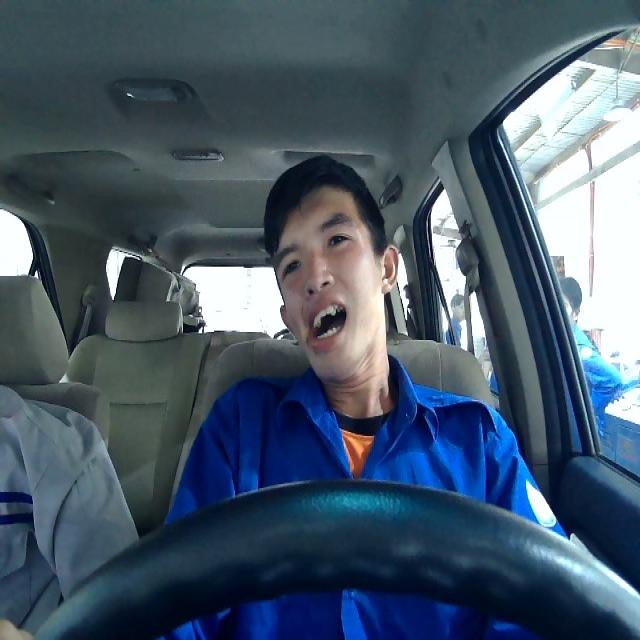yarning: (271, 183, 398, 380)
